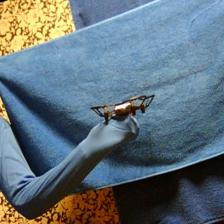drone: (90, 94, 157, 122)
